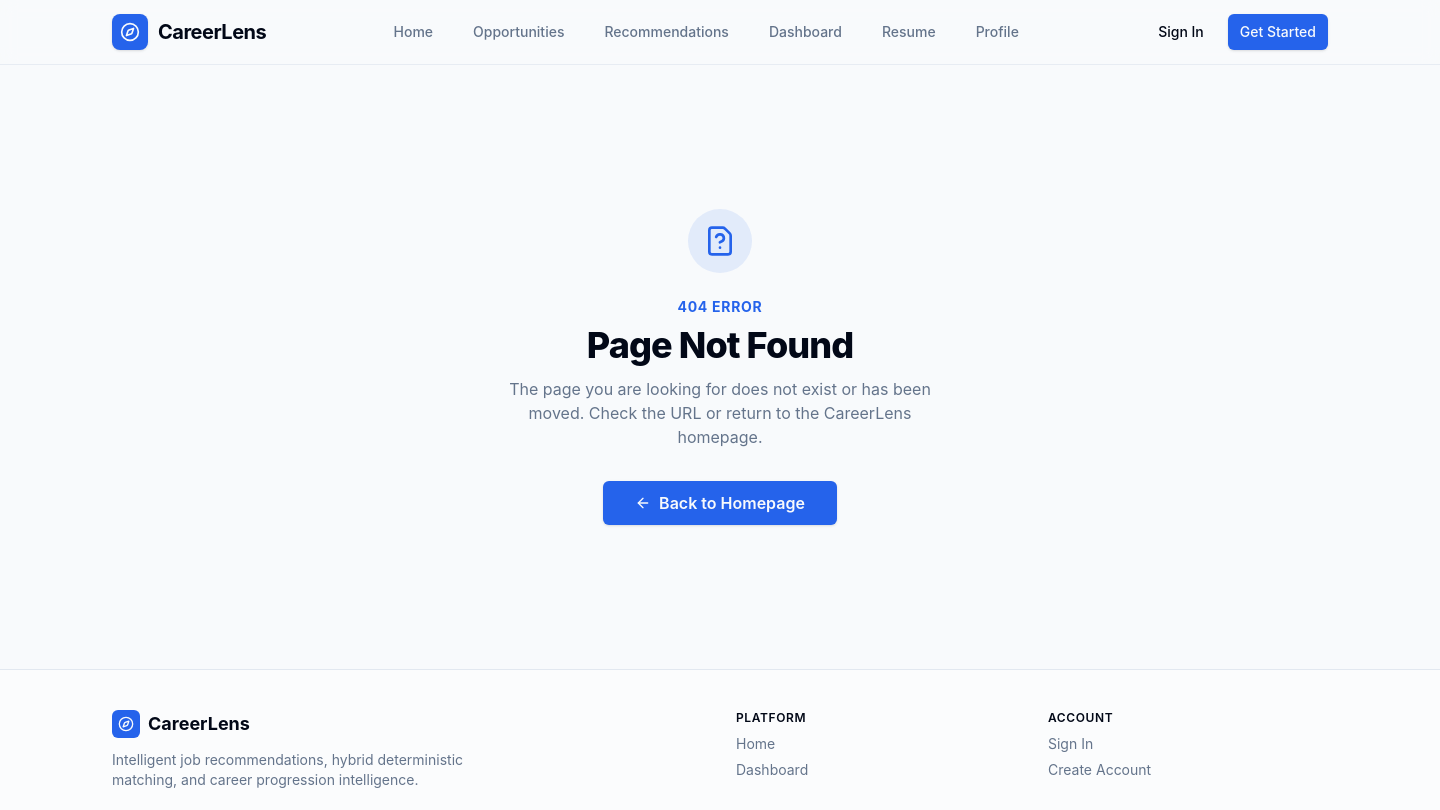
Test case: CareerLens Application Shell & Routing › navigates to profile page via navigation link
Click the link "Profile" at (997, 32), box [976,23,1019,40]
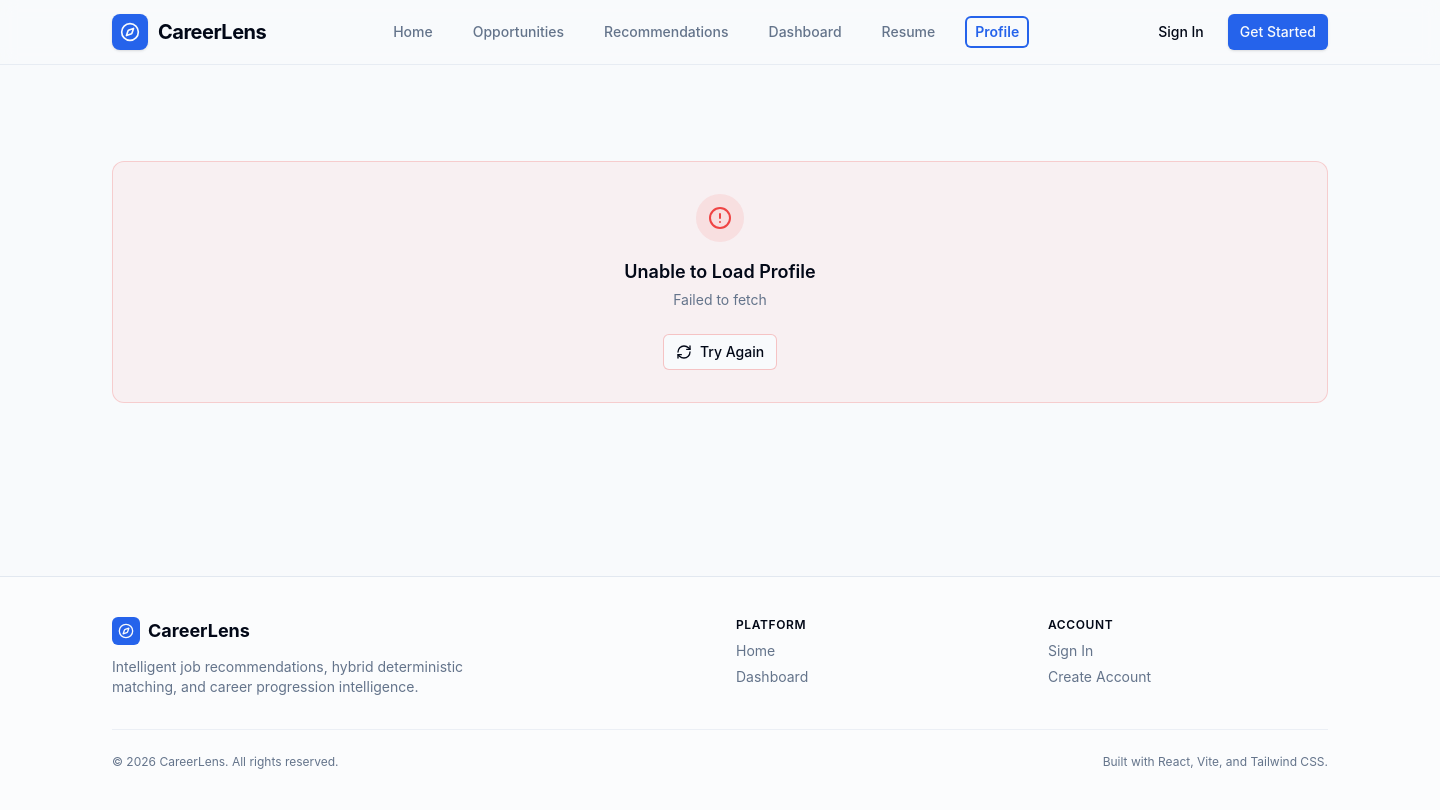
Expected: the element with test id "(profile-loading|profile-error|candidate-profile-page)" is shown, [112,113,1328,451]
